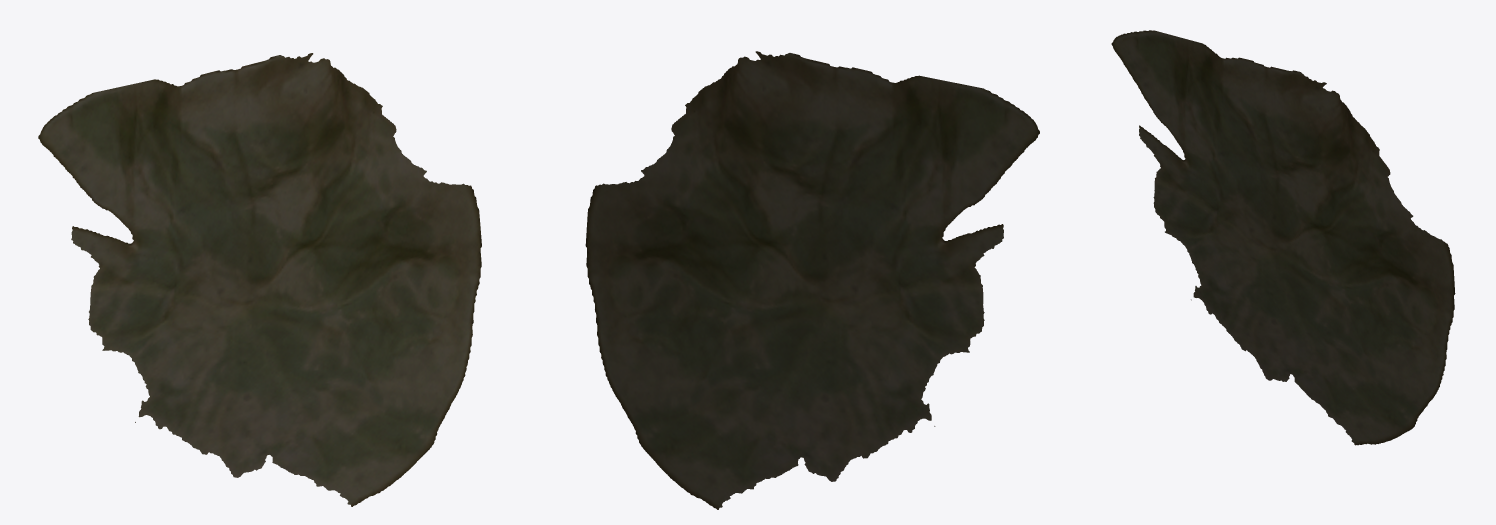
File: TI_WaterLily_leaf_05.fbx
3 views of the same model, side by side, from view 1: azimuth 30°, elevation 25°; view 2: azimuth 150°, elevation 25°; view 3: azimuth 330°, elevation 25° (orthographic). The views are drawn at different scales.
Parts seen in each view (by area): view 1: TI_WaterLily_leaf_05; view 2: TI_WaterLily_leaf_05; view 3: TI_WaterLily_leaf_05.
Part boxes in pixels (<box>): TI_WaterLily_leaf_05: <box>38,53,481,506</box>; TI_WaterLily_leaf_05: <box>585,51,1039,509</box>; TI_WaterLily_leaf_05: <box>1111,30,1455,445</box>.
Size of the model in its own units: 0.5338 by 0.5277 by 0.00828.
